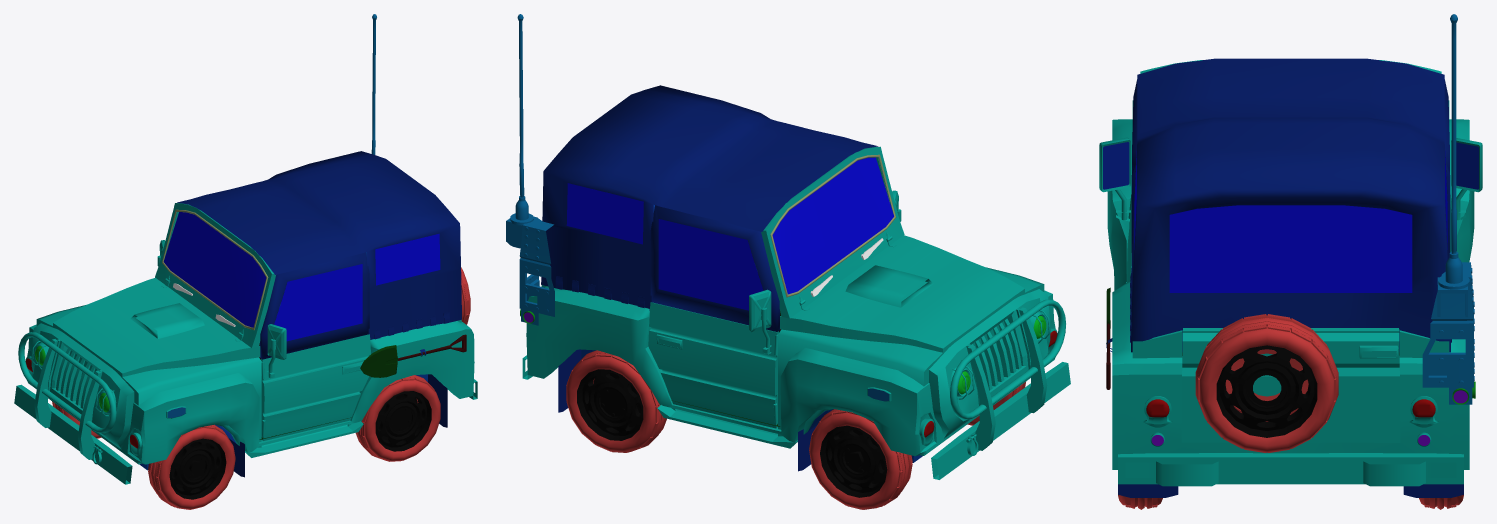
The picture shows the model from 3 angles, left to right: view 1: azimuth 30°, elevation 25°; view 2: azimuth 150°, elevation 25°; view 3: azimuth 270°, elevation 25°; orthographic projection. The views are drawn at different scales.
Parts seen in each view (by area): view 1: K_131, Roof, Door_Left, Wheel_Front, Wheel_Back, Shovel, Antena; view 2: K_131, Roof, Door_Right, Wheel_Front, Wheel_Back, Antena; view 3: Roof, K_131, Door_Back, Antena, Door_Left, Door_Right, Wheel_Back, Shovel.
Boxes of the visible parts, box(x1,y1,x2,y2) form: K_131: box(14, 203, 477, 484); Roof: box(177, 151, 461, 339); Door_Left: box(260, 252, 370, 440); Wheel_Front: box(52, 401, 235, 509); Wheel_Back: box(355, 375, 440, 461); Shovel: box(360, 334, 466, 377); Antena: box(371, 14, 376, 154); K_131: box(522, 146, 1070, 479); Roof: box(541, 85, 878, 310); Door_Right: box(648, 205, 779, 428); Wheel_Front: box(809, 382, 1025, 509); Wheel_Back: box(566, 350, 666, 452); Antena: box(506, 14, 554, 325); Roof: box(1130, 58, 1451, 352); K_131: box(1106, 60, 1474, 497); Door_Back: box(1181, 314, 1400, 452); Antena: box(1422, 14, 1475, 404); Door_Left: box(1099, 79, 1137, 282); Door_Right: box(1444, 79, 1482, 252); Wheel_Back: box(1118, 495, 1463, 509); Shovel: box(1106, 287, 1110, 389).
Bounding box in the file's own units: 624 × 545 × 345.
